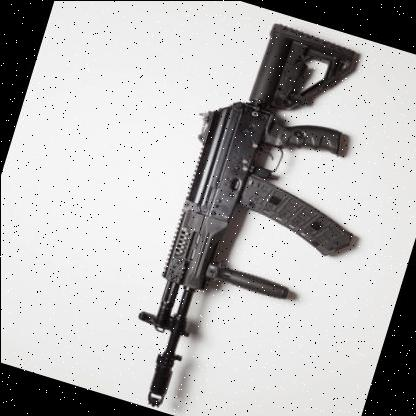rifle: (100, 0, 416, 416)
